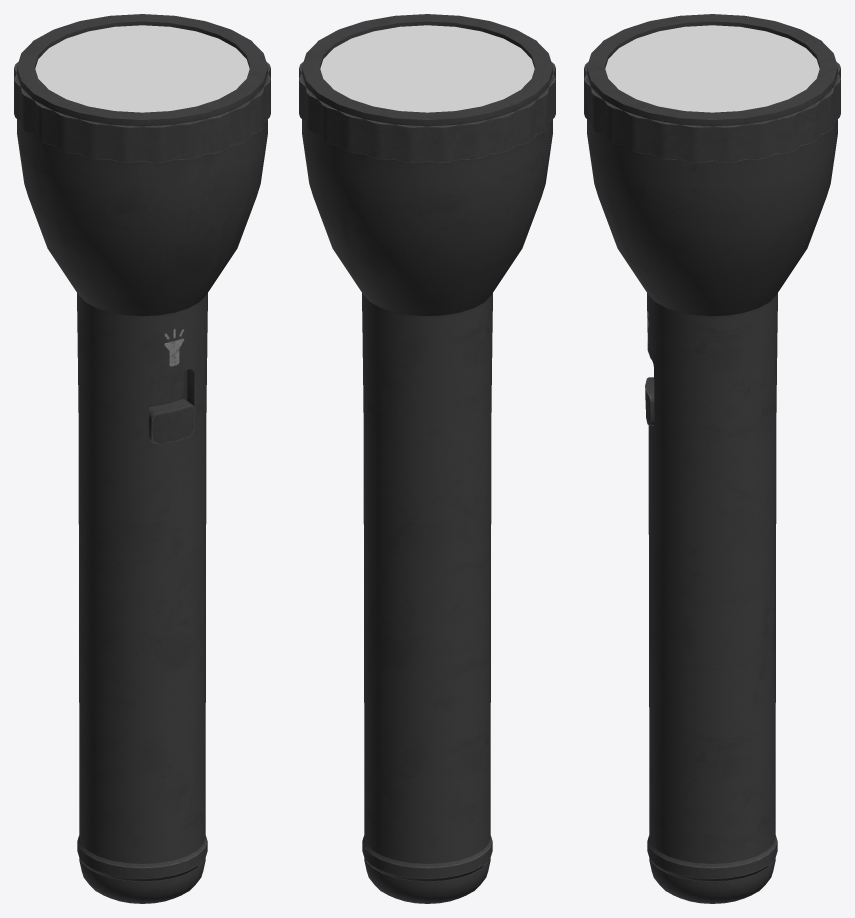
The model's file is Flashlight.fbx.
The picture shows the model from 3 angles, left to right: view 1: azimuth 30°, elevation 25°; view 2: azimuth 150°, elevation 25°; view 3: azimuth 270°, elevation 25°; orthographic projection.
Parts seen in each view (by area): view 1: SM_Flashlight; view 2: SM_Flashlight; view 3: SM_Flashlight.
Part boxes in pixels (left/top/right/bottom): SM_Flashlight: left=14, top=14, right=270, bottom=903; SM_Flashlight: left=299, top=14, right=555, bottom=903; SM_Flashlight: left=584, top=14, right=840, bottom=903.
Size of the model in its own units: 6.38 by 22.48 by 6.38.
